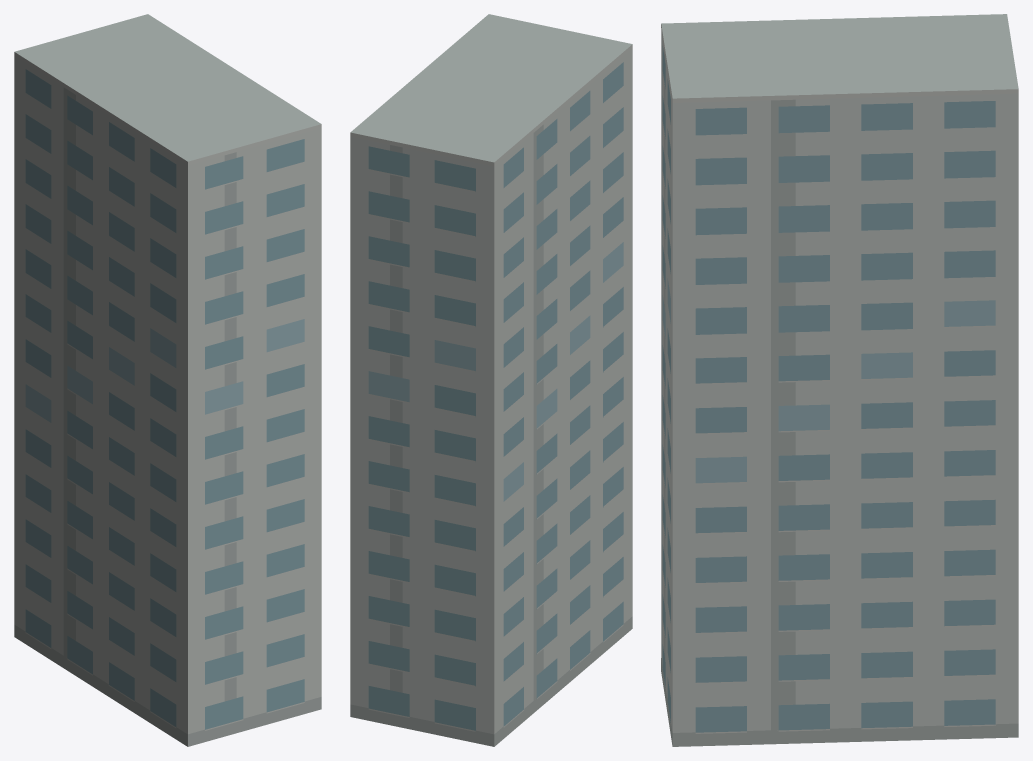
File: residential-5a856efd-fc41-4406-8d84-cd25a2811f3d.glb
The picture shows the model from 3 angles, left to right: view 1: azimuth 30°, elevation 25°; view 2: azimuth 150°, elevation 25°; view 3: azimuth 270°, elevation 25°; orthographic projection. The views are drawn at different scales.
Visible parts, largest first — view 1: residential-5a856efd-fc41-4406-8d84-cd25a2811f3d.tmp; view 2: residential-5a856efd-fc41-4406-8d84-cd25a2811f3d.tmp; view 3: residential-5a856efd-fc41-4406-8d84-cd25a2811f3d.tmp.
Boxes of the visible parts, bbox=[...] form: residential-5a856efd-fc41-4406-8d84-cd25a2811f3d.tmp: bbox=[14, 14, 321, 746]; residential-5a856efd-fc41-4406-8d84-cd25a2811f3d.tmp: bbox=[350, 14, 632, 746]; residential-5a856efd-fc41-4406-8d84-cd25a2811f3d.tmp: bbox=[661, 14, 1018, 746].
Size of the model in its own units: 9.8 by 35 by 17.5.
